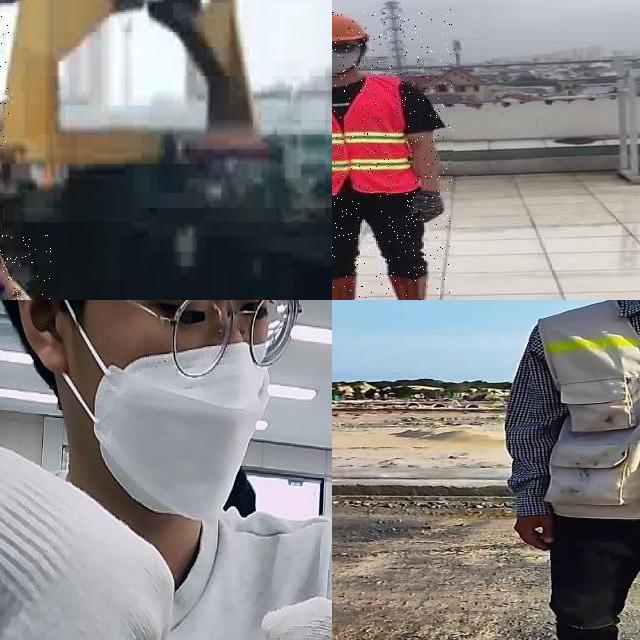BOOTS: (486, 300, 640, 640), (385, 274, 445, 300), (332, 276, 360, 300)
GLASS: (332, 39, 361, 57)
GLOVE: (0, 437, 175, 640), (408, 185, 444, 225)
HELMET: (332, 12, 367, 46)
VEST: (529, 300, 640, 526), (332, 76, 419, 193)
